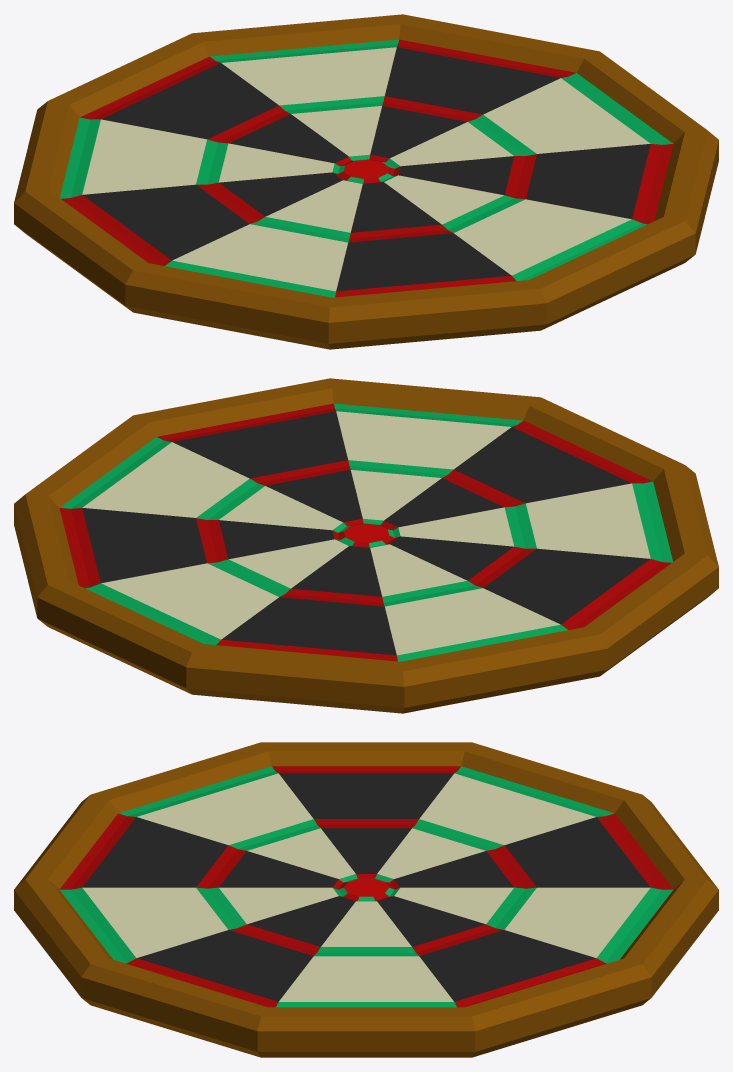
File: DartBoard.fbx
The picture shows the model from 3 angles, top to bottom: view 1: azimuth 30°, elevation 25°; view 2: azimuth 150°, elevation 25°; view 3: azimuth 270°, elevation 25°; orthographic projection. The views are drawn at different scales.
Visible parts, largest first — view 1: Cylinder; view 2: Cylinder; view 3: Cylinder.
Part boxes in pixels (left/top/right/bottom): Cylinder: left=14, top=14, right=718, bottom=349; Cylinder: left=14, top=378, right=718, bottom=713; Cylinder: left=14, top=742, right=718, bottom=1057.
Size of the model in its own units: 2948 by 200 by 3100.
